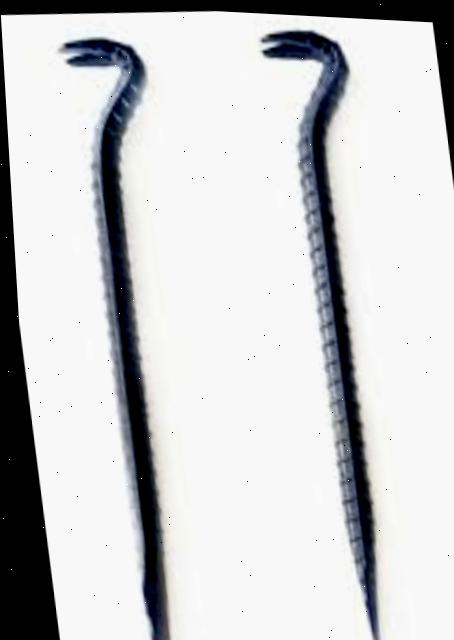crow bar: (225, 15, 430, 640), (25, 24, 216, 640)
